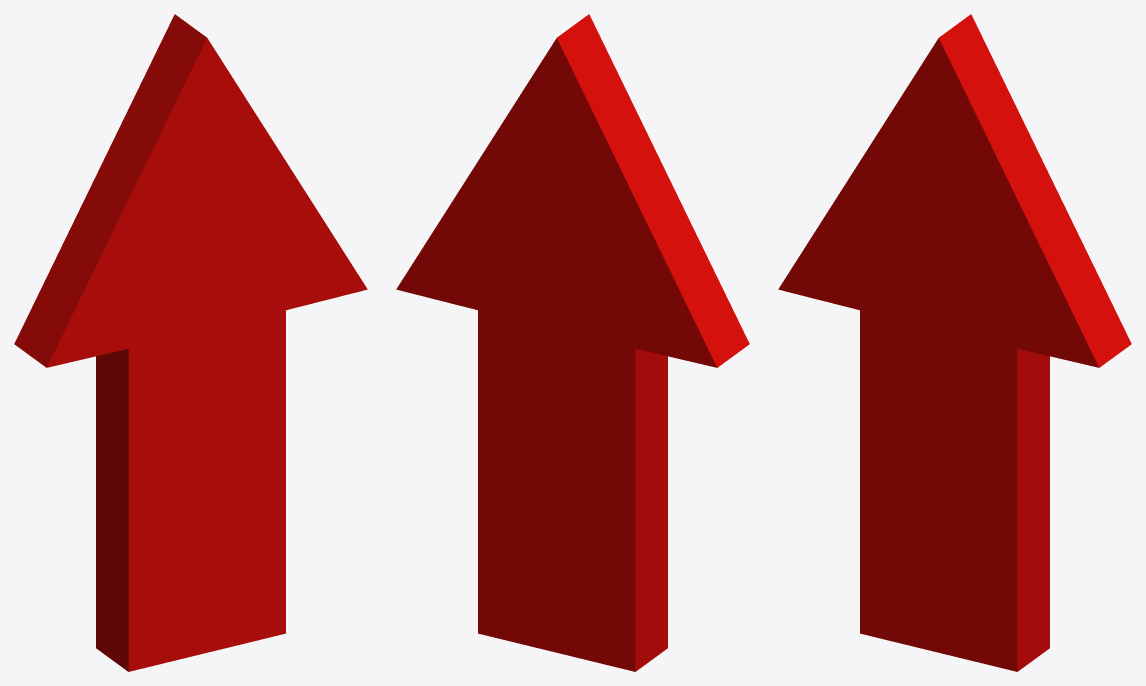
File: arrow.fbx
The picture shows the model from 3 angles, left to right: view 1: azimuth 30°, elevation 25°; view 2: azimuth 150°, elevation 25°; view 3: azimuth 330°, elevation 25°; orthographic projection.
Parts seen in each view (by area): view 1: Cube; view 2: Cube; view 3: Cube.
Boxes of the visible parts, box(x1,y1,x2,y2) form: Cube: box(14, 14, 367, 671); Cube: box(396, 14, 749, 671); Cube: box(778, 14, 1131, 671).
Bounding box in the file's own units: 88.53 × 162 × 15.5.
